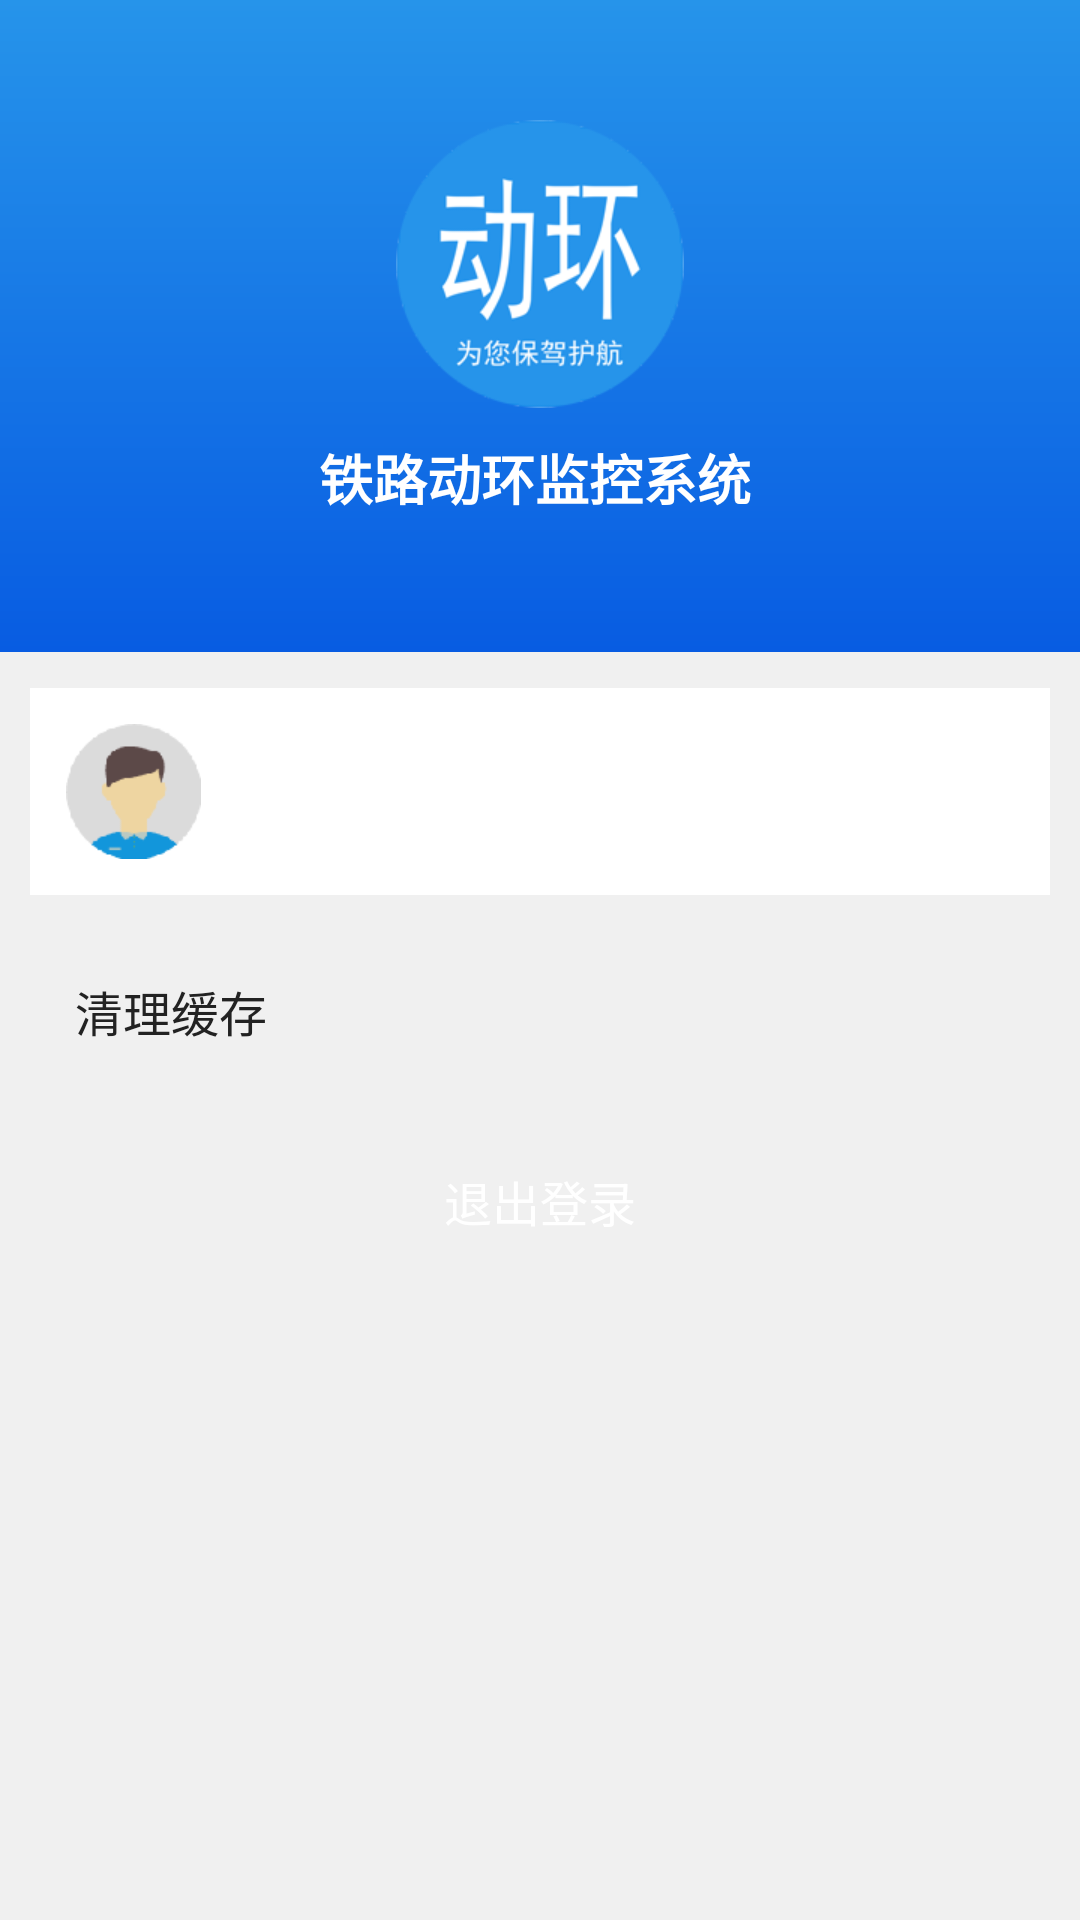

Screen size 1080 x 1920. Icon name, then its center in pixels as [x,y]:
head: [133,791]
